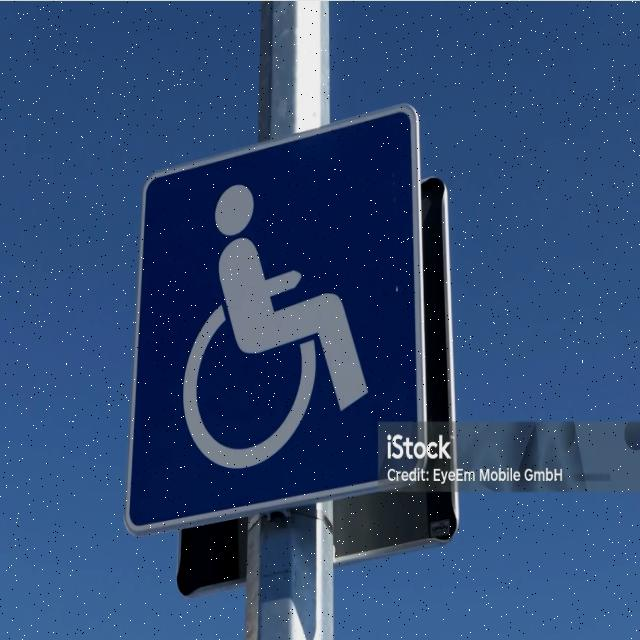symbol_of_access: (123, 98, 430, 538)
